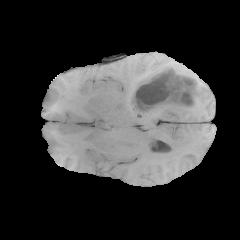glioma: (130, 64, 198, 114)
